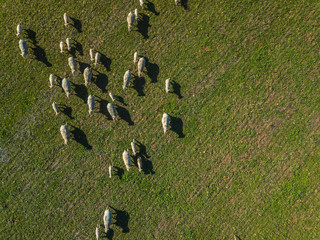sheep: (157, 109, 177, 140), (101, 200, 117, 236), (57, 122, 76, 150), (82, 97, 102, 123), (104, 101, 124, 126), (18, 43, 37, 69), (82, 92, 99, 120), (56, 81, 77, 102), (115, 69, 132, 92), (118, 149, 133, 174), (83, 63, 98, 87), (161, 76, 180, 92), (93, 51, 107, 72), (64, 36, 78, 57), (135, 155, 147, 177), (137, 58, 148, 81), (103, 88, 119, 103), (57, 7, 69, 27), (47, 75, 62, 90), (100, 163, 114, 179), (123, 11, 136, 28), (15, 24, 29, 36), (129, 137, 139, 153), (127, 51, 138, 65), (55, 42, 68, 52), (132, 7, 140, 18), (87, 48, 94, 58)
